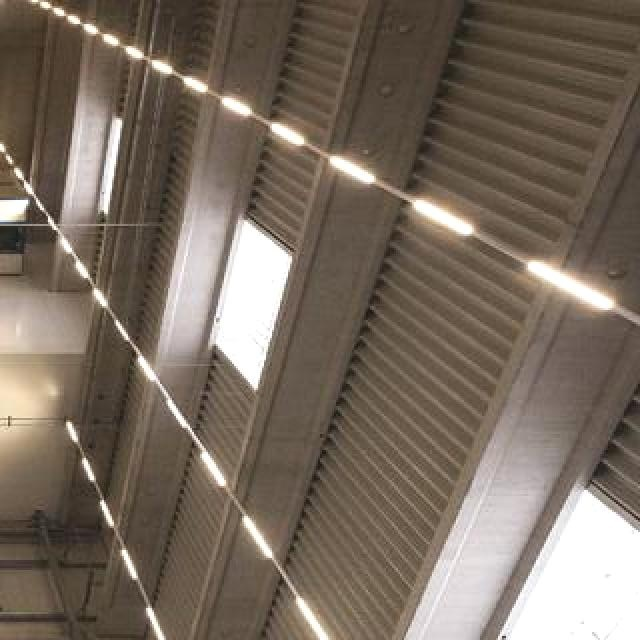fluorescent tube: (509, 246, 622, 326), (400, 181, 480, 243), (315, 151, 385, 191), (290, 592, 342, 640), (236, 512, 278, 561), (194, 449, 236, 491), (265, 124, 307, 160), (216, 85, 256, 122), (161, 386, 191, 435), (171, 71, 218, 93), (135, 352, 160, 391), (142, 604, 168, 640), (119, 544, 143, 581), (97, 497, 116, 535), (113, 314, 133, 344), (71, 255, 93, 282), (78, 456, 97, 484), (89, 287, 111, 311), (62, 415, 79, 445), (66, 6, 86, 30), (148, 57, 180, 71), (100, 31, 123, 49), (121, 47, 149, 61), (55, 237, 75, 256), (15, 184, 39, 197), (53, 3, 69, 21), (44, 214, 57, 234), (82, 22, 100, 36), (33, 198, 45, 219), (10, 166, 25, 182)
